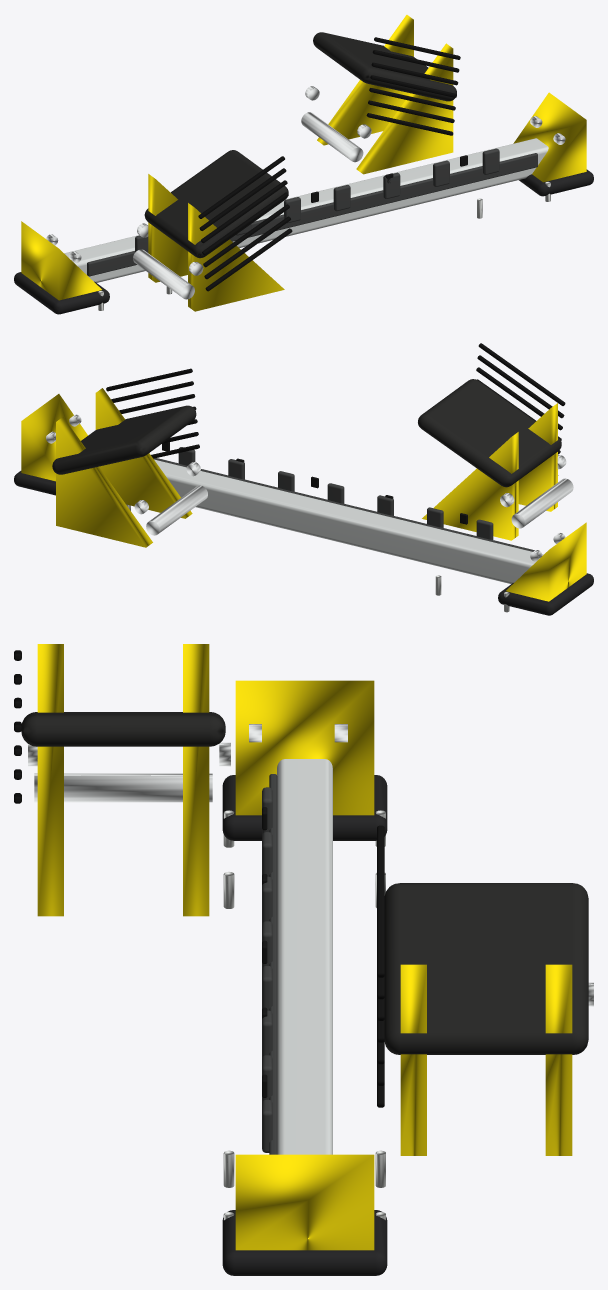
File: Startblock_3D_v2.glb
3 renders of one model, top to bottom at view 1: azimuth 30°, elevation 25°; view 2: azimuth 150°, elevation 25°; view 3: azimuth 270°, elevation 25°, orthographic. The views are drawn at different scales.
Visible parts, largest first — view 1: Startblock_3D_v2__web_glossy_yellow_start_block_brackets, Startblock_3D_v2__web_black_textured_start_block_foot_pads, Startblock_3D_v2__web_brushed_aluminium_start_block_rail, Startblock_3D_v2__web_dark_recessed_grooves_in_start_block_p, Startblock_3D_v2__web_dark_adjustment_slots_in_start_block_r, Startblock_3D_v2__web_chrome_start_block_bolts_and_hinge_pin, Startblock_3D_v2__web_black_rubber_start_block_base_pads; view 2: Startblock_3D_v2__web_glossy_yellow_start_block_brackets, Startblock_3D_v2__web_brushed_aluminium_start_block_rail, Startblock_3D_v2__web_black_textured_start_block_foot_pads, Startblock_3D_v2__web_chrome_start_block_bolts_and_hinge_pin, Startblock_3D_v2__web_dark_recessed_grooves_in_start_block_p, Startblock_3D_v2__web_dark_adjustment_slots_in_start_block_r, Startblock_3D_v2__web_black_rubber_start_block_base_pads; view 3: Startblock_3D_v2__web_glossy_yellow_start_block_brackets, Startblock_3D_v2__web_black_textured_start_block_foot_pads, Startblock_3D_v2__web_brushed_aluminium_start_block_rail, Startblock_3D_v2__web_black_rubber_start_block_base_pads, Startblock_3D_v2__web_dark_adjustment_slots_in_start_block_r, Startblock_3D_v2__web_chrome_start_block_bolts_and_hinge_pin, Startblock_3D_v2__web_dark_recessed_grooves_in_start_block_p, Startblock_3D_v2__web_v2_extra_chrome_start_block_floor_spik.
Boxes of the visible parts, x1,y1,x2,y2 form: Startblock_3D_v2__web_glossy_yellow_start_block_brackets: (21, 15, 586, 311); Startblock_3D_v2__web_black_textured_start_block_foot_pads: (144, 32, 456, 258); Startblock_3D_v2__web_brushed_aluminium_start_block_rail: (64, 138, 548, 282); Startblock_3D_v2__web_dark_recessed_grooves_in_start_block_p: (198, 37, 460, 291); Startblock_3D_v2__web_dark_adjustment_slots_in_start_block_r: (87, 148, 537, 276); Startblock_3D_v2__web_chrome_start_block_bolts_and_hinge_pin: (46, 86, 565, 299); Startblock_3D_v2__web_black_rubber_start_block_base_pads: (14, 169, 593, 314); Startblock_3D_v2__web_glossy_yellow_start_block_brackets: (21, 388, 586, 601); Startblock_3D_v2__web_brushed_aluminium_start_block_rail: (154, 459, 543, 583); Startblock_3D_v2__web_black_textured_start_block_foot_pads: (52, 379, 561, 487); Startblock_3D_v2__web_chrome_start_block_bolts_and_hinge_pin: (46, 414, 573, 561); Startblock_3D_v2__web_dark_recessed_grooves_in_start_block_p: (106, 343, 565, 475); Startblock_3D_v2__web_dark_adjustment_slots_in_start_block_r: (153, 447, 534, 551); Startblock_3D_v2__web_black_rubber_start_block_base_pads: (14, 471, 593, 615); Startblock_3D_v2__web_glossy_yellow_start_block_brackets: (37, 644, 572, 1250); Startblock_3D_v2__web_black_textured_start_block_foot_pads: (21, 712, 588, 1054); Startblock_3D_v2__web_brushed_aluminium_start_block_rail: (277, 759, 332, 1154); Startblock_3D_v2__web_black_rubber_start_block_base_pads: (222, 775, 387, 1275); Startblock_3D_v2__web_dark_adjustment_slots_in_start_block_r: (262, 774, 277, 1154); Startblock_3D_v2__web_chrome_start_block_bolts_and_hinge_pin: (28, 724, 593, 1006); Startblock_3D_v2__web_dark_recessed_grooves_in_start_block_p: (14, 650, 384, 1107); Startblock_3D_v2__web_v2_extra_chrome_start_block_floor_spik: (223, 810, 385, 1220).
Size of the model in its own units: 1.74 by 0.5077 by 0.879.
